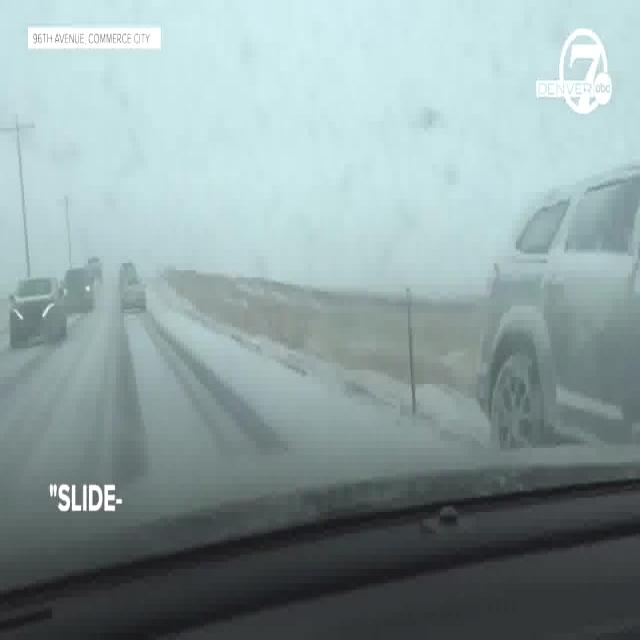Car: (472, 166, 640, 457), (8, 273, 66, 351), (115, 274, 155, 318), (62, 271, 96, 316)
